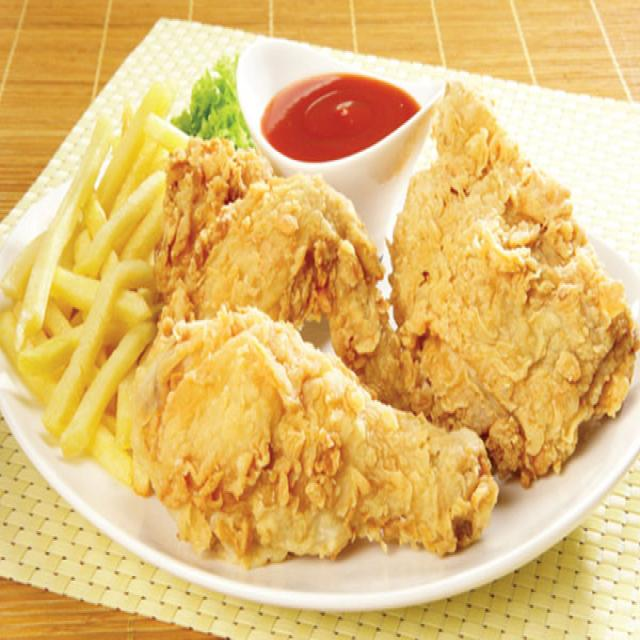Frango: (132, 304, 495, 570), (396, 85, 637, 467), (0, 94, 202, 469), (164, 137, 381, 386)
